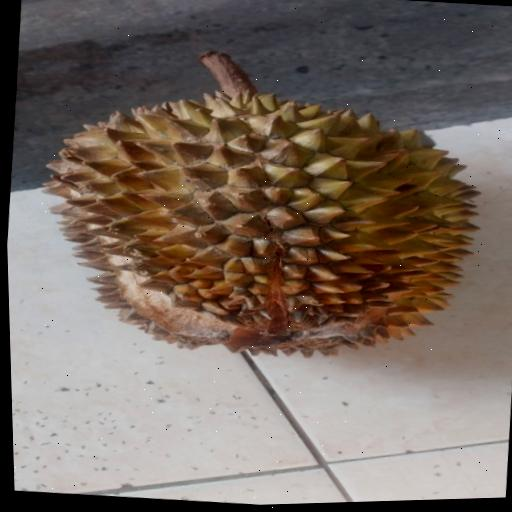mold: (286, 325, 373, 346), (174, 330, 232, 344)
